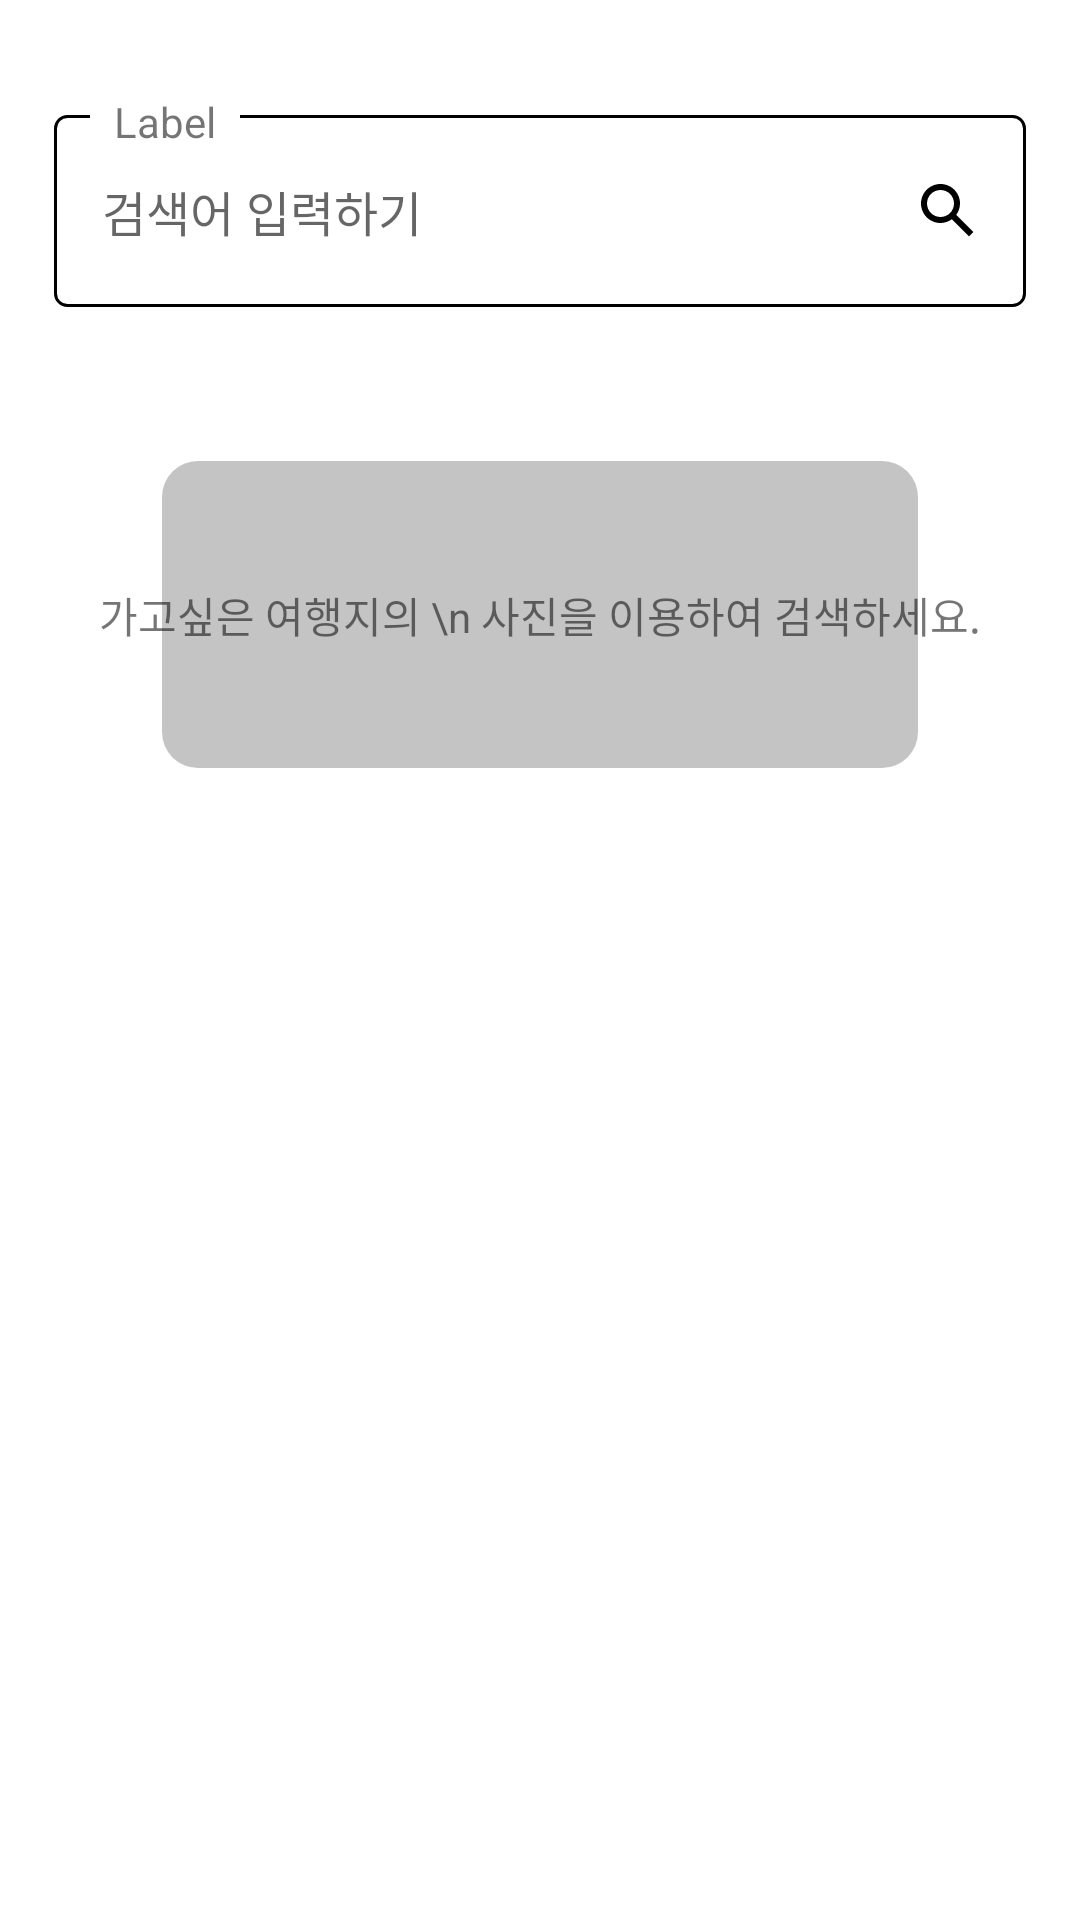

Where to tap for icons on this 1080×1920 app screen, as (x=x, y=y):
search: (x=947, y=210)
